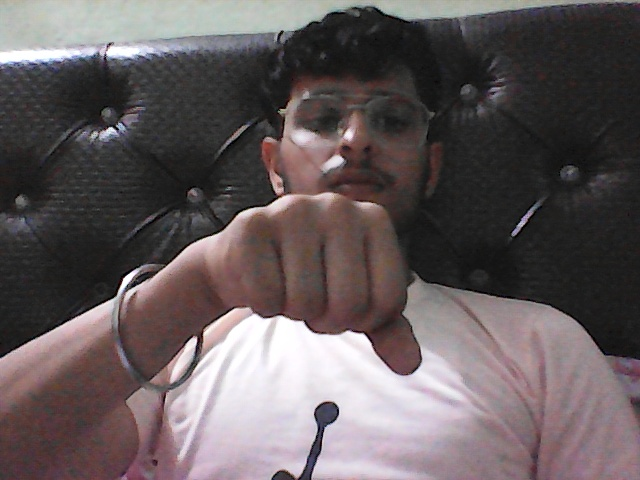yes: (200, 178, 439, 378)
